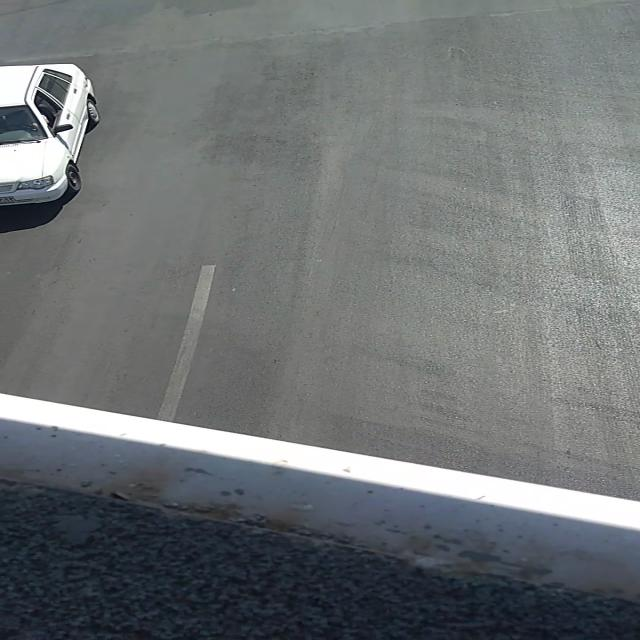car: (3, 62, 104, 207)
